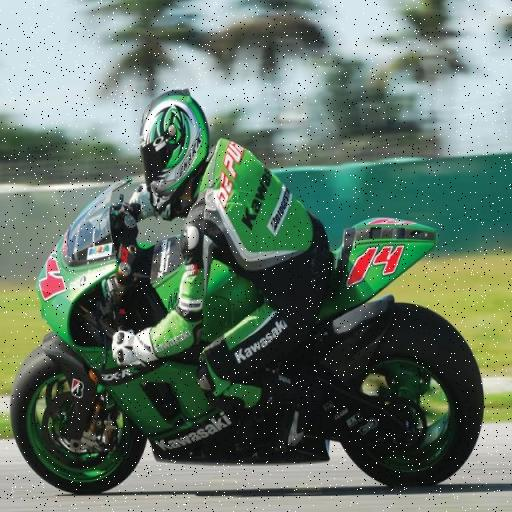Helmet: (114, 80, 216, 221)
Motor: (28, 226, 488, 486)
